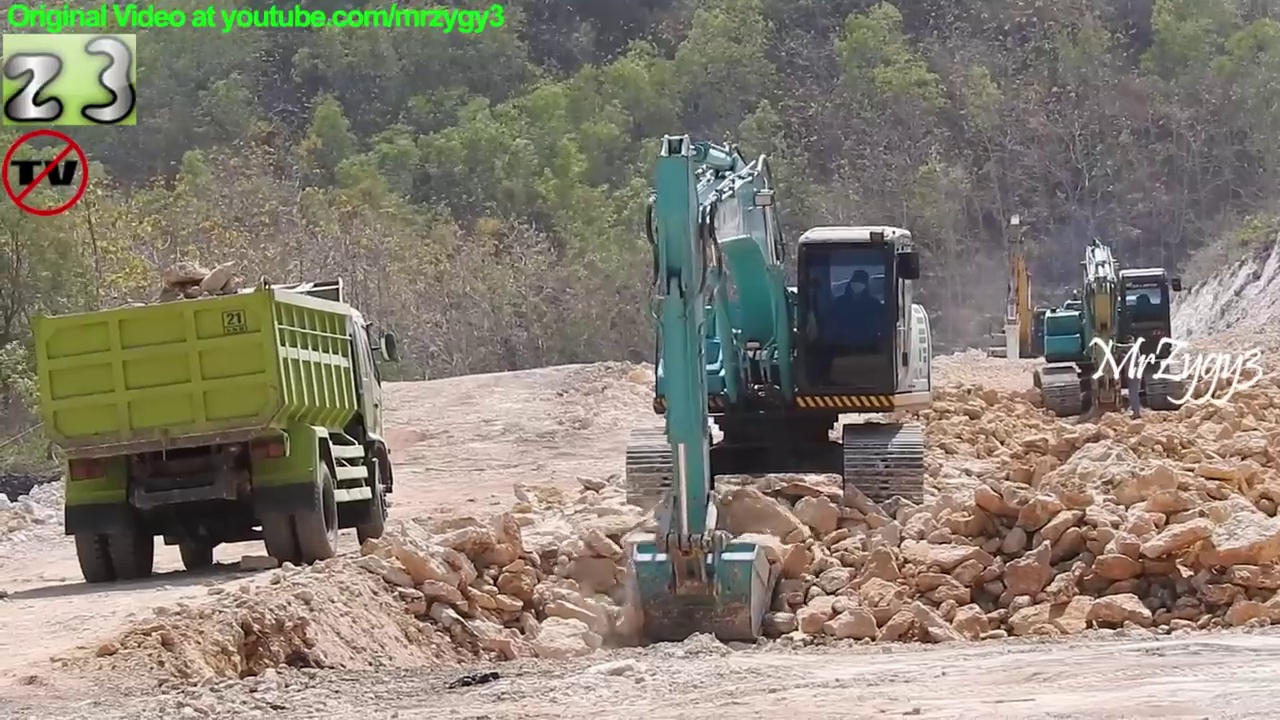excavator: (615, 124, 943, 651), (975, 206, 1071, 374)
excavator breaker: (1030, 228, 1192, 427)
truck: (27, 274, 405, 590)
worker: (1109, 326, 1155, 423)
